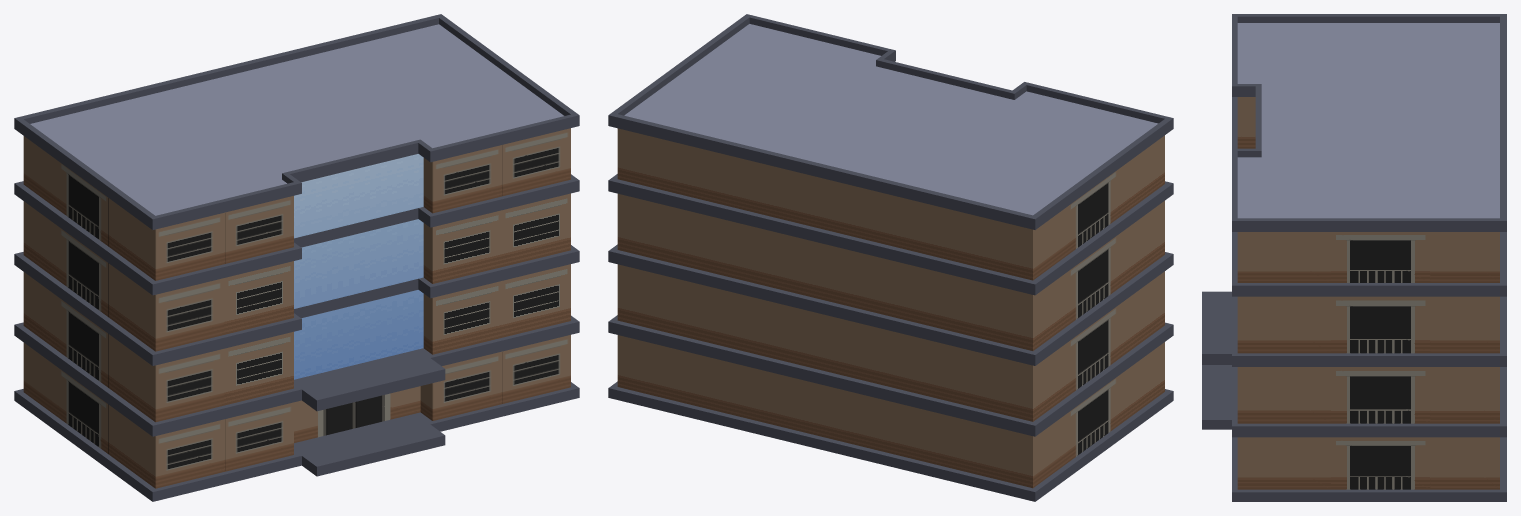
Rendered from Bldg 1.glb.
3 renders of one model, left to right at view 1: azimuth 30°, elevation 25°; view 2: azimuth 150°, elevation 25°; view 3: azimuth 270°, elevation 25°, orthographic.
Visible parts, largest first — view 1: Cube; view 2: Cube; view 3: Cube.
Part boxes in pixels (x1,y1,x2,y2): Cube: (14,14,579,501); Cube: (608,14,1173,501); Cube: (1202,14,1506,501).
Bounding box in the file's own units: 4.11 × 2.6 × 2.56.
Materials: 2 (2 with a texture image).
